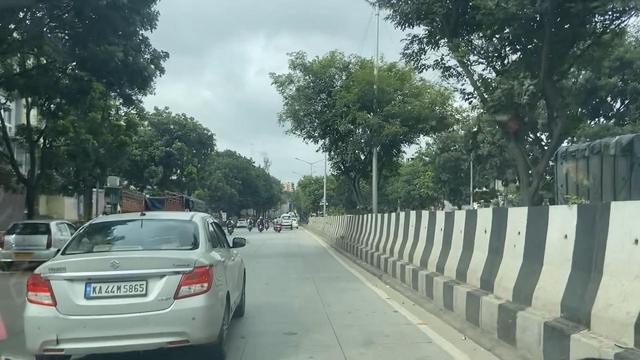LMV: (32, 203, 251, 360)
